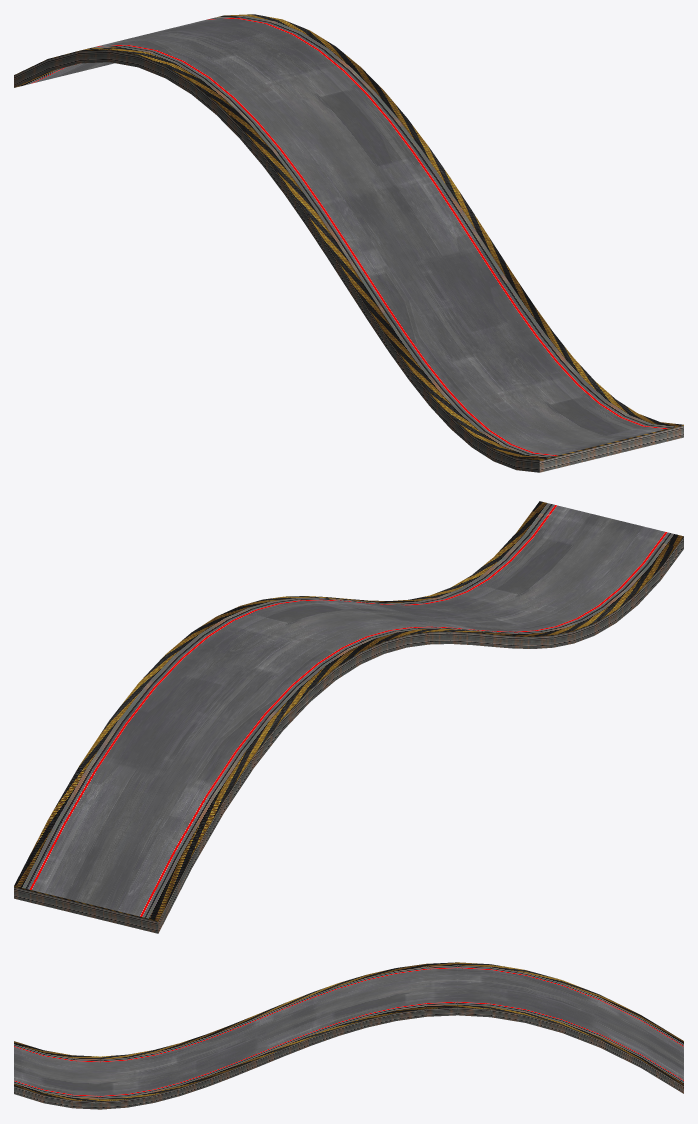
The model's file is Ramp_c1.FBX.
3 views of the same model, one above another, from view 1: azimuth 30°, elevation 25°; view 2: azimuth 150°, elevation 25°; view 3: azimuth 270°, elevation 25° (orthographic). The views are drawn at different scales.
Parts seen in each view (by area): view 1: Box019; view 2: Box019; view 3: Box019.
Boxes of the visible parts, x1,y1,x2,y2 form: Box019: (14, 14, 683, 472); Box019: (14, 501, 683, 933); Box019: (14, 962, 683, 1109).
Size of the model in its own units: 955 by 1016 by 6027.
Materials: 1 (1 with a texture image).
